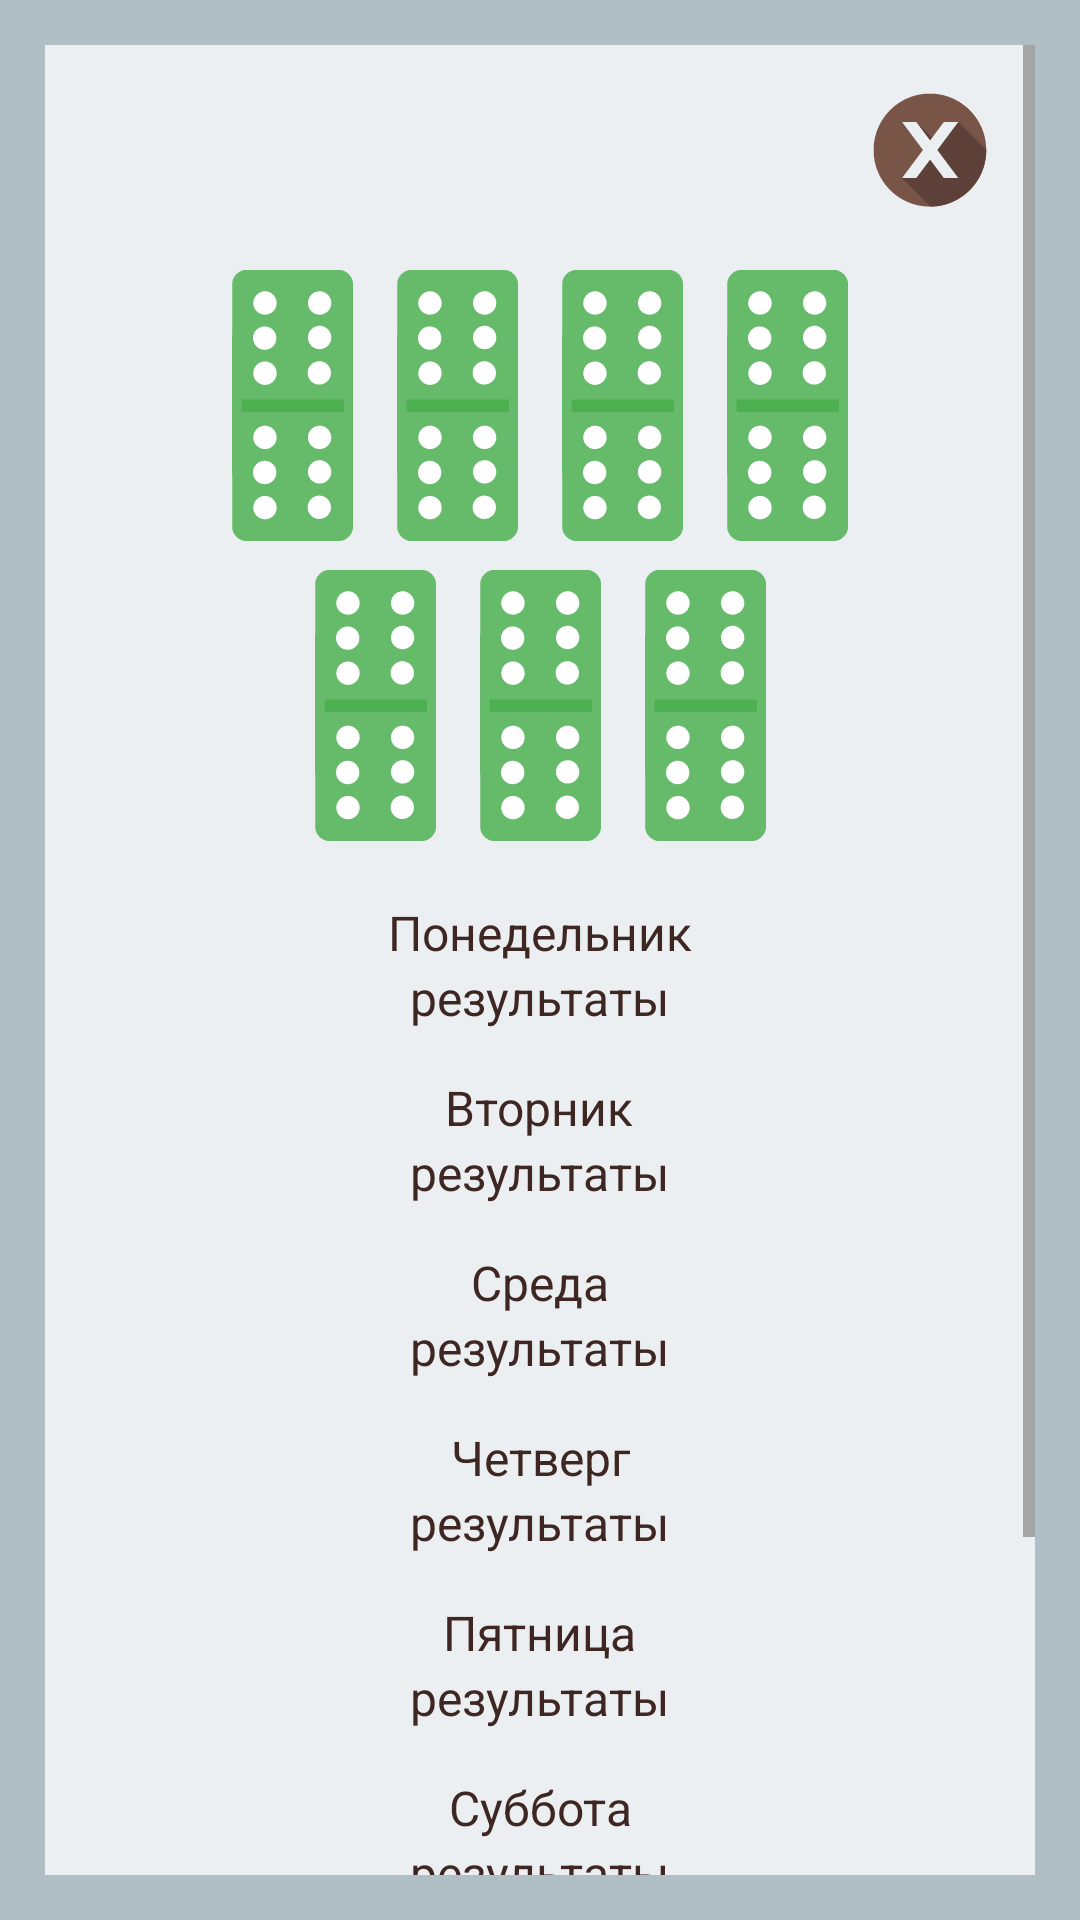

Icon click points for this 1080px×1920px phone screenshot, format (x=x, y=y):
domino: (x=292, y=405), (x=457, y=405), (x=622, y=405), (x=787, y=405), (x=375, y=705), (x=540, y=705), (x=705, y=705)
